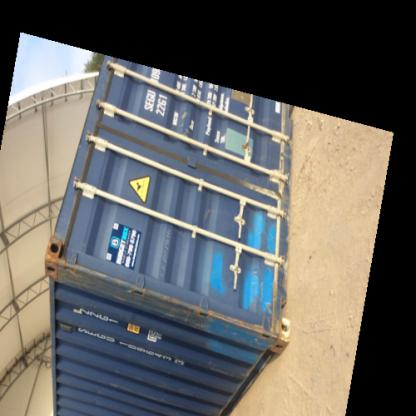Damage: (106, 275, 190, 320), (189, 312, 285, 348), (35, 242, 114, 283), (262, 262, 282, 338), (236, 178, 288, 204)
